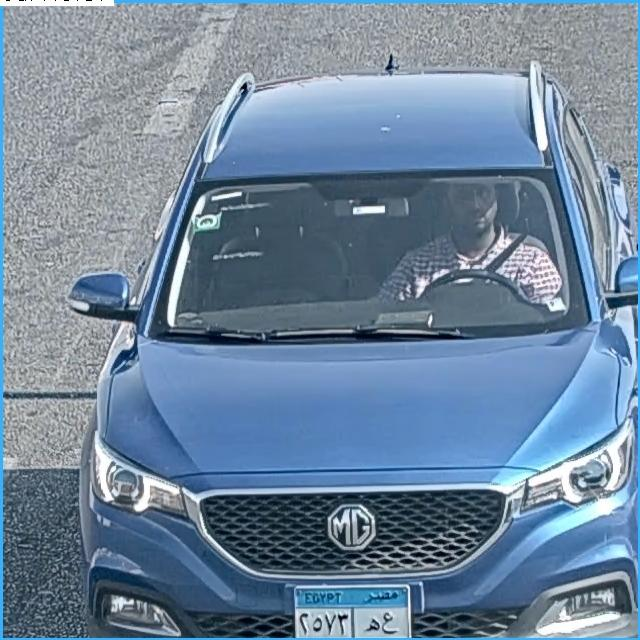windshield: (162, 175, 591, 340)
